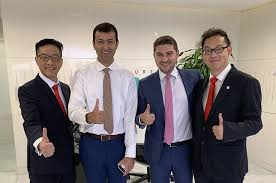F_M_suit jacket: (194, 65, 263, 180), (20, 74, 77, 179), (141, 68, 201, 152)
F_belt: (77, 129, 128, 146)
F_dress pants: (76, 131, 131, 183), (144, 136, 192, 183)
F_shirt: (65, 58, 147, 157)
F_tie: (162, 74, 176, 152), (100, 67, 116, 135), (200, 78, 218, 125), (47, 84, 67, 116)
